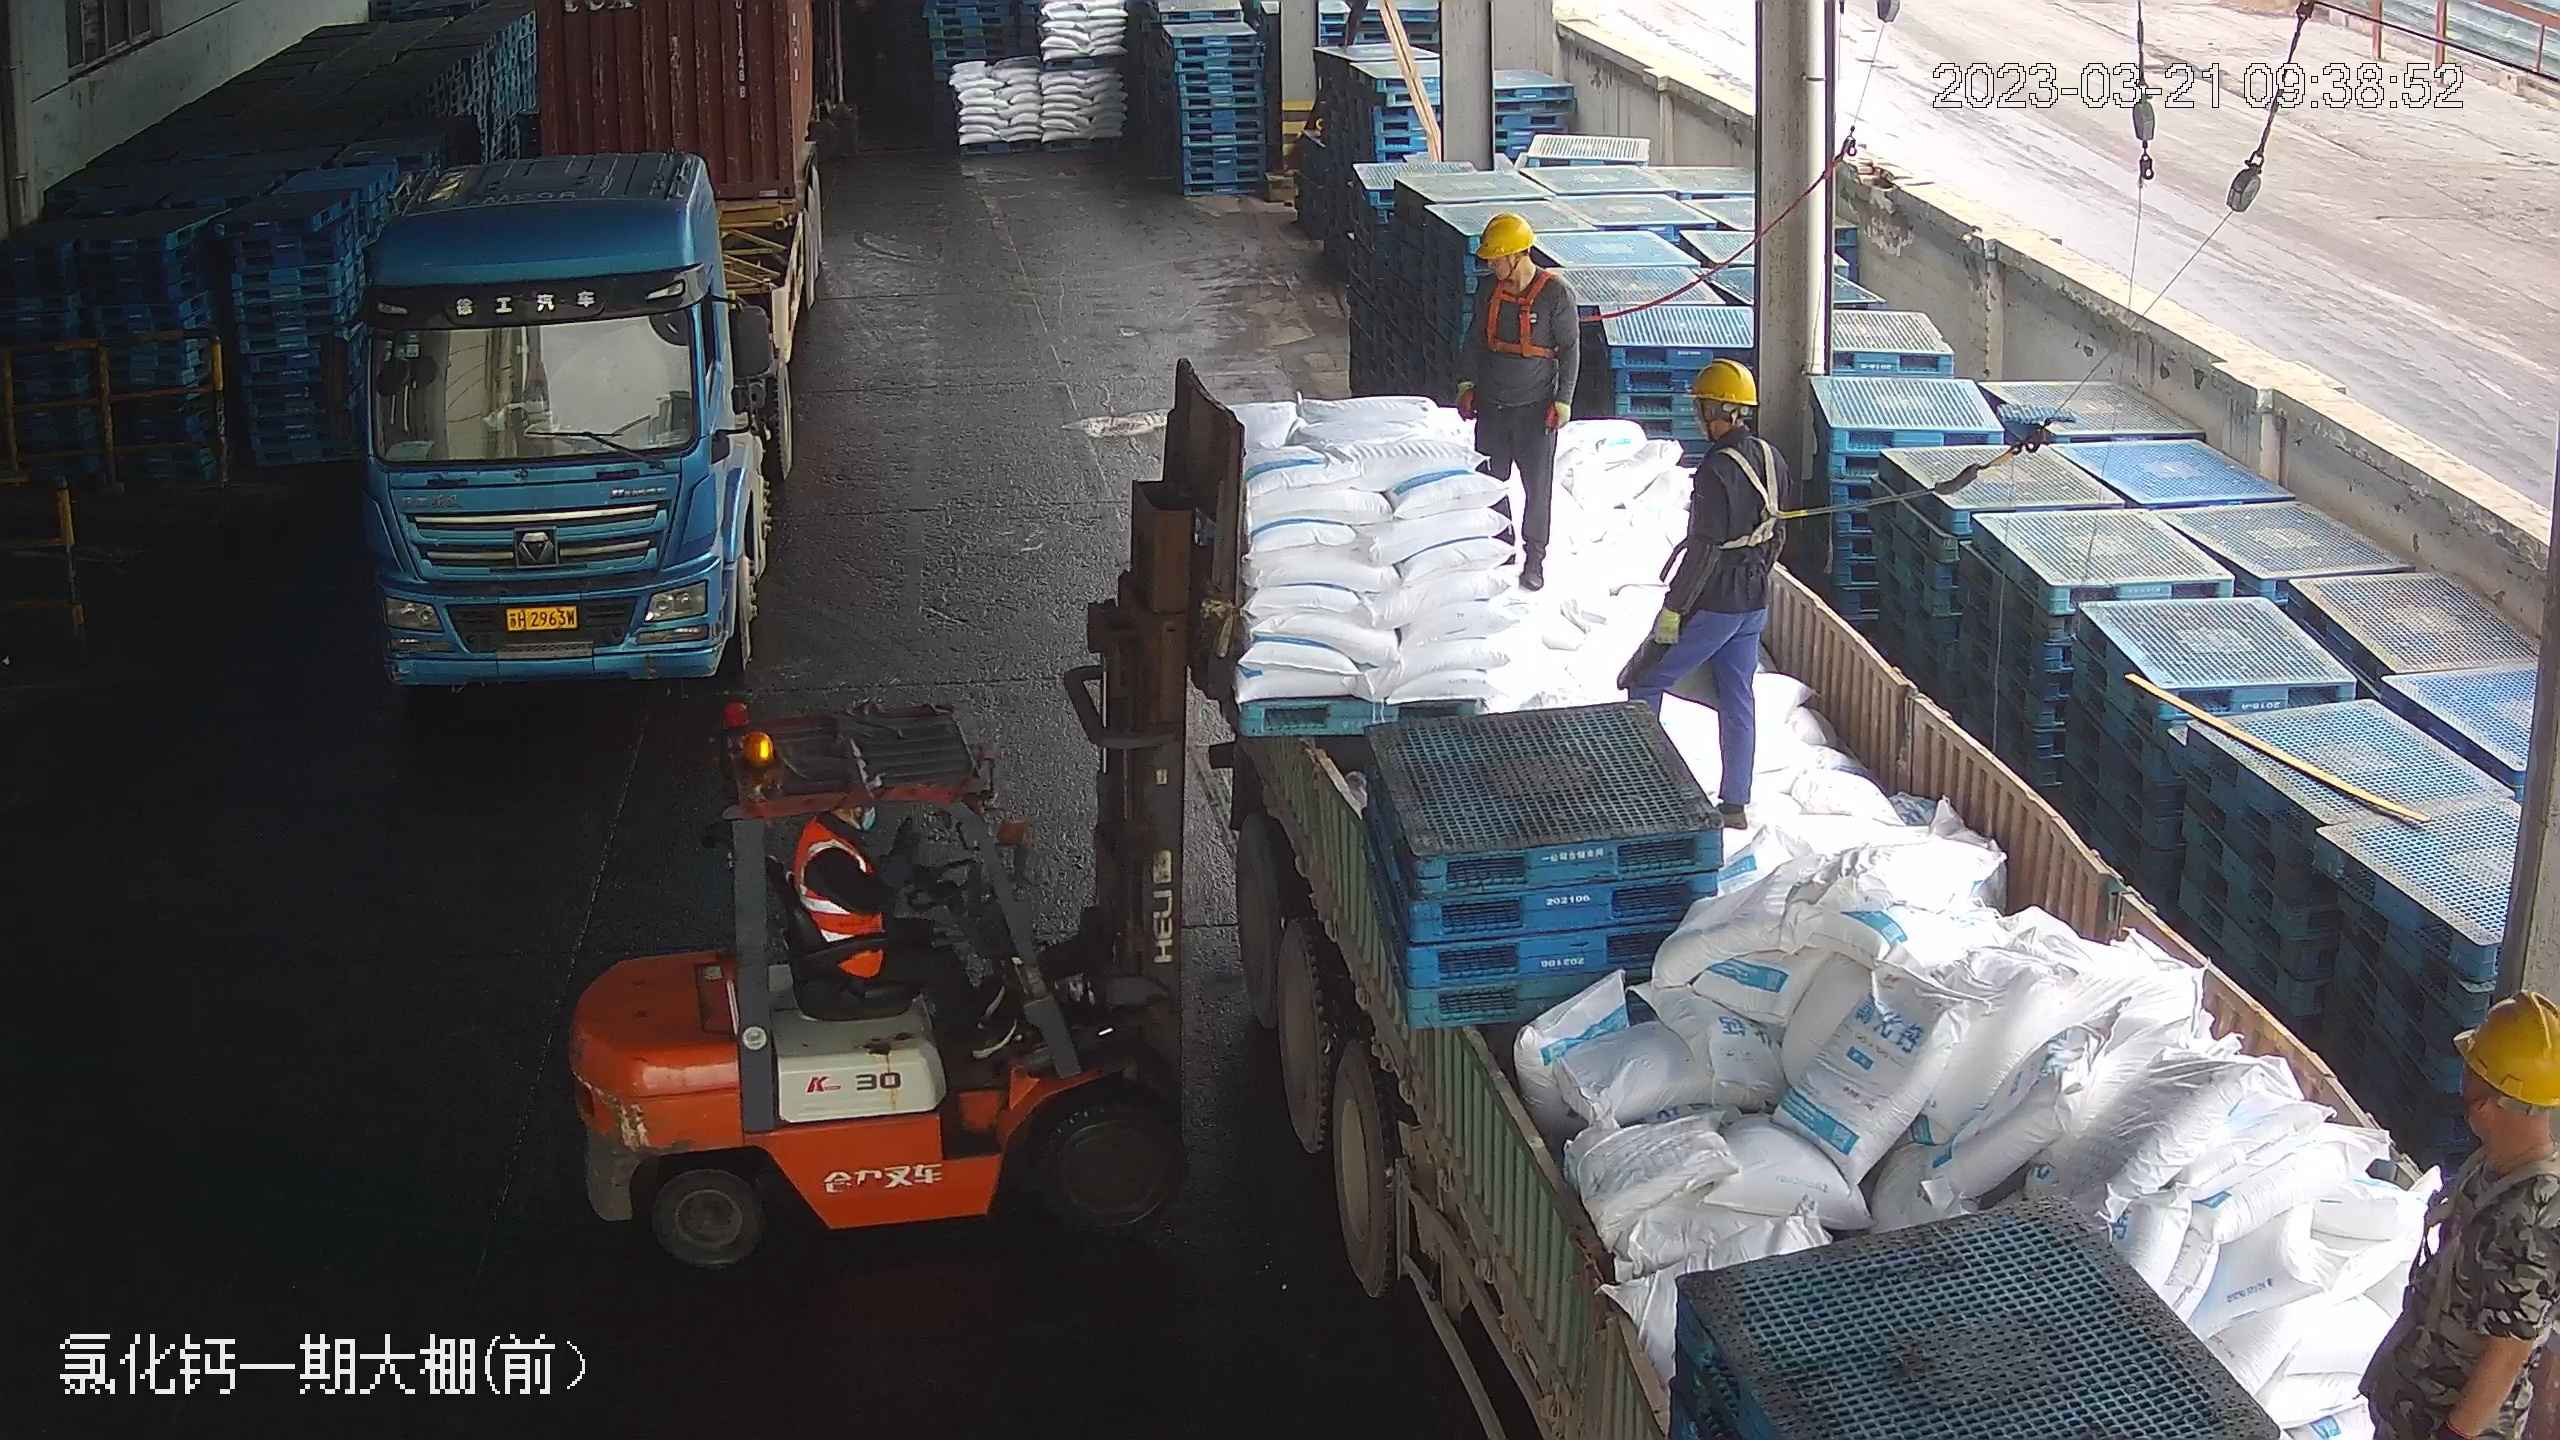belt: (2471, 1139, 2558, 1327), (1702, 434, 1799, 551), (1477, 264, 1566, 360)
head: (2419, 986, 2555, 1253), (1670, 352, 1792, 501), (1467, 208, 1576, 319)
helmet: (2454, 991, 2559, 1109), (1683, 353, 1760, 406), (1476, 208, 1537, 257)
people: (2363, 988, 2557, 1440), (1617, 351, 1786, 831), (790, 802, 1013, 1053), (1452, 202, 1581, 591)
truck: (1196, 155, 2492, 1438), (327, 1, 836, 688)
